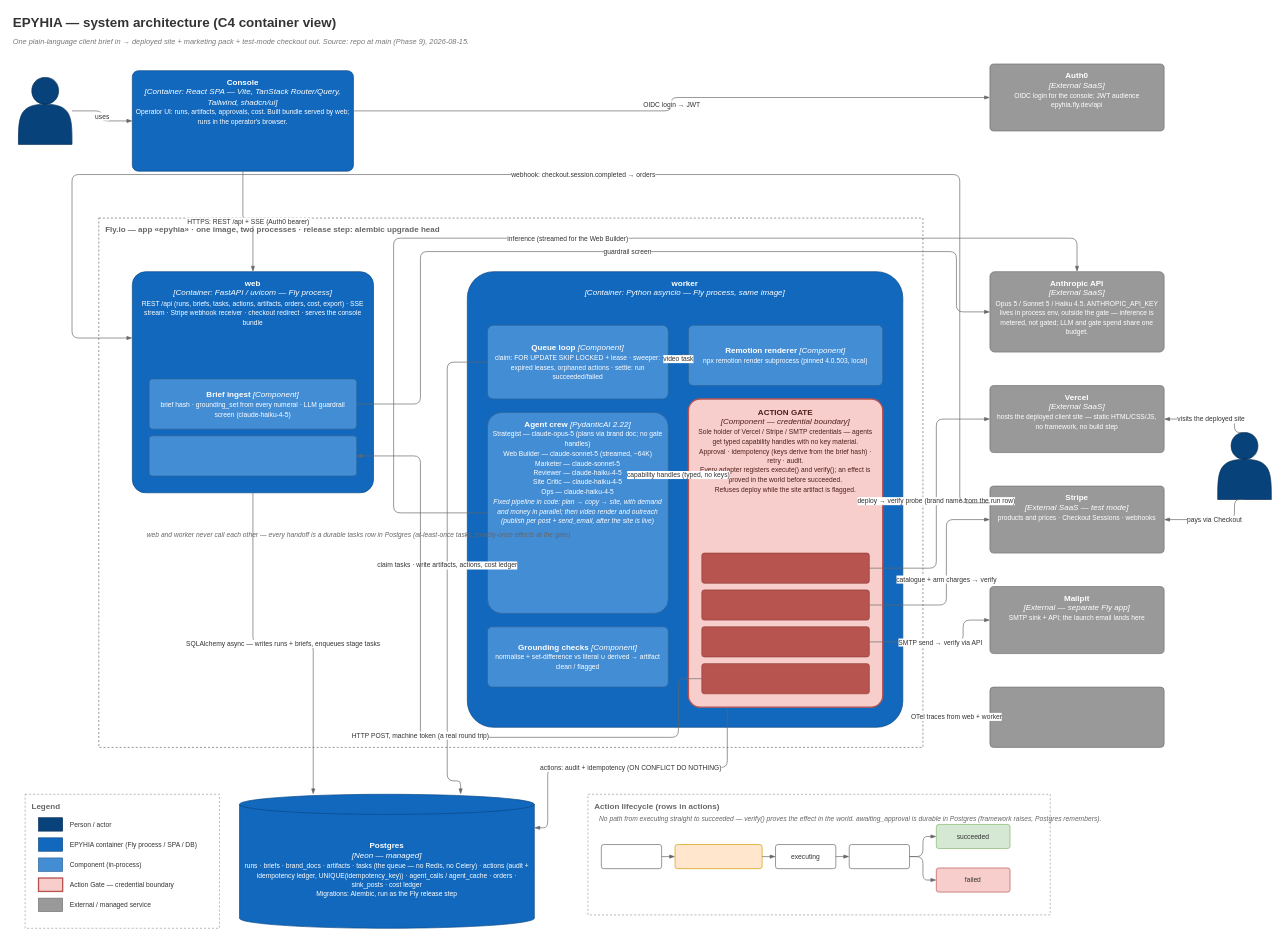
Image size: 1283x940. Some labels were removed from this diagram. Here are the shapes that lost their labels. From the top down, the centre of each, then its label:
(x=45, y=110): Operator
(x=252, y=455): Demand sink /sink [Component] stand-in social channel · machine-token auth
(x=1244, y=465): Buyer
(x=785, y=567): Vercel adapter — deploy · verify probe
(x=785, y=604): Stripe adapter — catalogue, arm charge · verify
(x=785, y=641): Email adapter — SMTP send · verify
(x=785, y=678): Publish adapter — HTTP post to sink · verify
(x=1076, y=716): Logfire [External SaaS] tracing; run_id on every span
(x=631, y=856): pending
(x=718, y=856): awaiting_approval
(x=879, y=856): verifying
